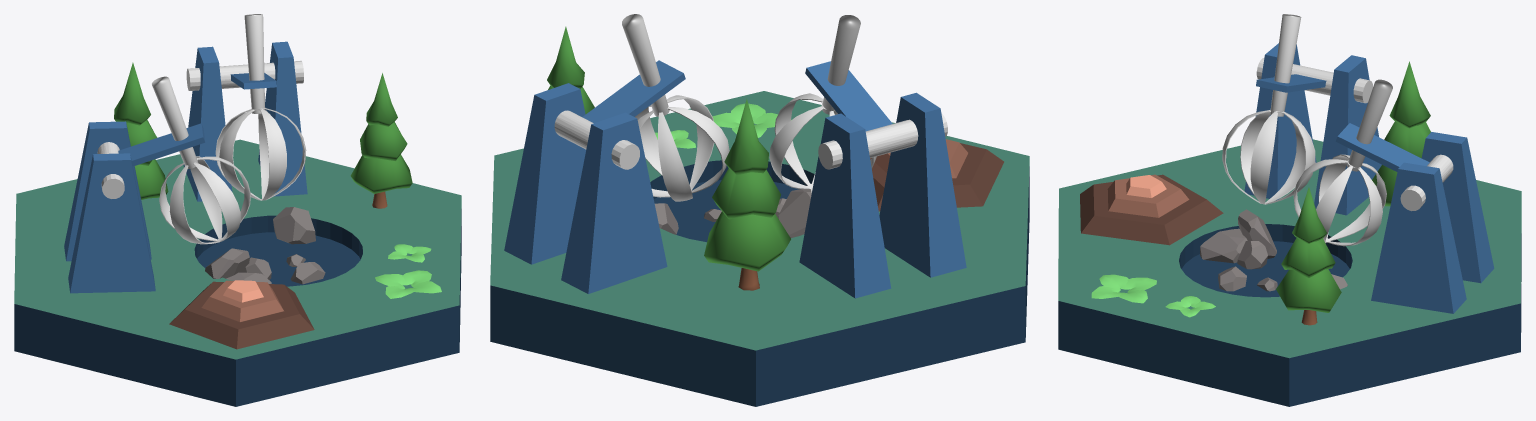
Rendered from Macro - Mineral lvl 2 WM1 rev.fbx.
3 views of the same model, side by side, from view 1: azimuth 30°, elevation 25°; view 2: azimuth 150°, elevation 25°; view 3: azimuth 270°, elevation 25° (orthographic). The views are drawn at different scales.
Parts seen in each view (by area): view 1: Cylinder.011, Cube.008, Cylinder.069, Tree_Spruce_tiny_01.001, Circle.003, Circle.002, Cube.004, Cube.005, Tree_Spruce_tiny_01.002, Cube.009, Cylinder.068, Rock Type2 02 mesh.002 (+11 smaller); view 2: Cylinder.011, Cube.005, Cube.009, Cube.008, Cube.004, Tree_Spruce_tiny_01.002, Circle.002, Cylinder.069, Cube.007, Circle.003, Cube.006, Cylinder.007 (+8 smaller); view 3: Cylinder.011, Cube.004, Cube.005, Cylinder.069, Tree_Spruce_tiny_01.001, Circle.003, Cube.009, Circle.002, Cube.008, Tree_Spruce_tiny_01.002, Rock Type2 02 mesh.002, Cylinder.068 (+10 smaller).
Part boxes in pixels (x1,y1,x2,y2): Cylinder.011: [14, 139, 461, 406]; Cube.008: [68, 153, 155, 293]; Cylinder.069: [169, 281, 314, 349]; Tree_Spruce_tiny_01.001: [350, 73, 412, 208]; Circle.003: [159, 156, 250, 244]; Circle.002: [215, 108, 306, 200]; Cube.004: [258, 41, 307, 196]; Cube.005: [183, 46, 232, 201]; Tree_Spruce_tiny_01.002: [114, 62, 168, 199]; Cube.009: [64, 121, 151, 261]; Cylinder.068: [201, 280, 283, 321]; Rock Type2 02 mesh.002: [205, 248, 271, 283]; Cylinder.011: [490, 91, 1029, 406]; Cube.005: [561, 112, 667, 293]; Cube.009: [799, 113, 891, 298]; Cube.008: [879, 92, 966, 277]; Cube.004: [504, 83, 585, 264]; Tree_Spruce_tiny_01.002: [704, 98, 790, 290]; Circle.002: [635, 95, 729, 201]; Cylinder.069: [870, 143, 1003, 211]; Cube.007: [805, 61, 892, 131]; Circle.003: [769, 93, 876, 193]; Cube.006: [582, 60, 685, 123]; Cylinder.007: [818, 113, 947, 169]; Cylinder.011: [1058, 139, 1521, 406]; Cube.004: [1371, 162, 1466, 313]; Cube.005: [1421, 132, 1494, 283]; Cylinder.069: [1080, 174, 1223, 245]; Tree_Spruce_tiny_01.001: [1276, 187, 1341, 325]; Circle.003: [1222, 109, 1315, 204]; Cube.009: [1314, 55, 1381, 215]; Circle.002: [1293, 154, 1386, 246]; Cube.008: [1244, 43, 1316, 200]; Tree_Spruce_tiny_01.002: [1372, 61, 1430, 206]; Rock Type2 02 mesh.002: [1200, 209, 1276, 269]; Cylinder.068: [1107, 174, 1189, 217].
Bounding box in the file's own units: 197 × 99.74 × 172.
